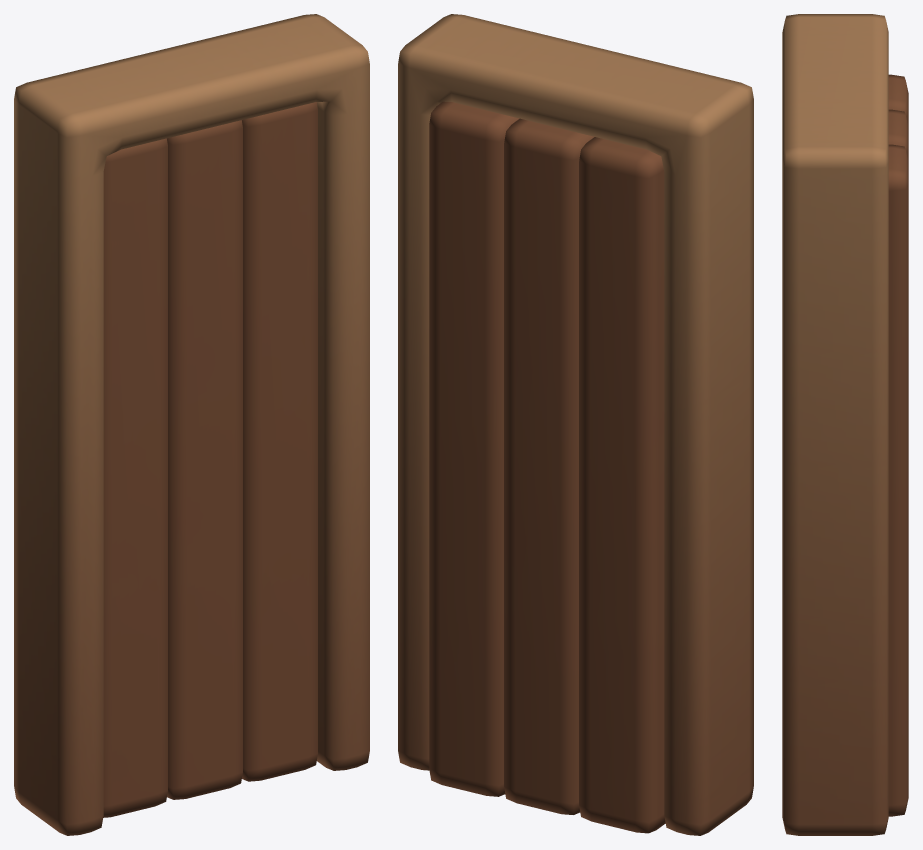
File: SM_Clay_Door_02.fbx
3 renders of one model, left to right at view 1: azimuth 30°, elevation 25°; view 2: azimuth 150°, elevation 25°; view 3: azimuth 270°, elevation 25°, orthographic. The views are drawn at different scales.
Visible parts, largest first — view 1: SM_Clay_Door_02; view 2: SM_Clay_Door_02; view 3: SM_Clay_Door_02.
Boxes of the visible parts, x1,y1,x2,y2 form: SM_Clay_Door_02: [14, 14, 369, 835]; SM_Clay_Door_02: [398, 14, 753, 835]; SM_Clay_Door_02: [782, 14, 908, 835].
Bounding box in the file's own units: 0.2991 × 0.6673 × 0.1113.
1 material, 1 textured.
